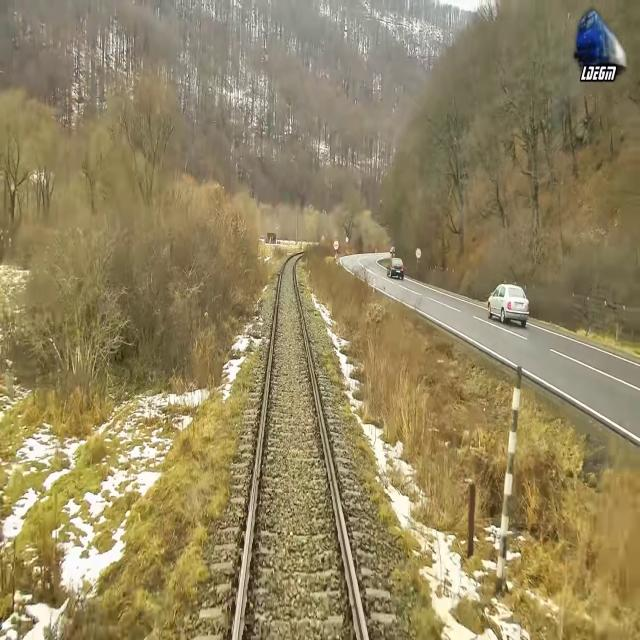rail-track: (237, 252, 364, 639)
